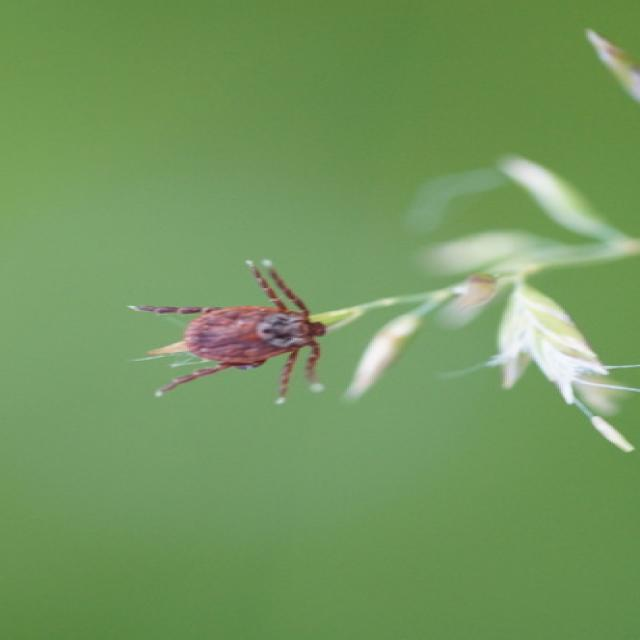Dermacentor Reticulatus-F: (131, 260, 328, 403)
